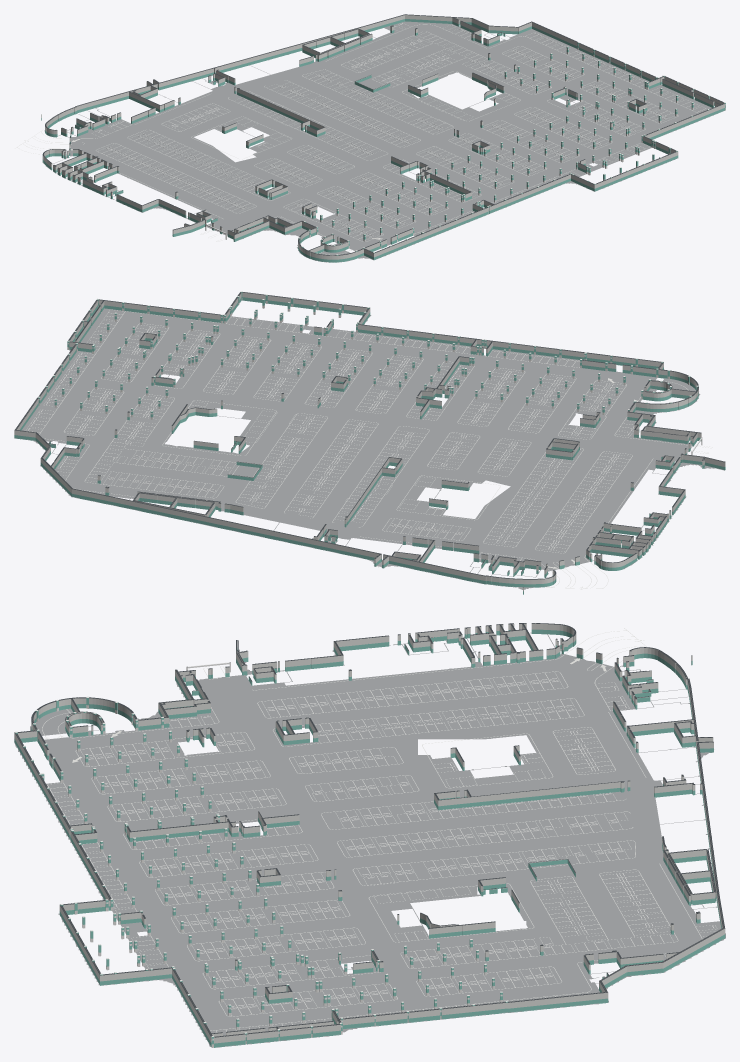
3 views of the same model, one above another, from view 1: azimuth 30°, elevation 25°; view 2: azimuth 150°, elevation 25°; view 3: azimuth 270°, elevation 25° (orthographic). The views are drawn at different scales.
Parts seen in each view (by area): view 1: floor, props; view 2: floor, props; view 3: floor, props.
Part boxes in pixels (left/top/right/bottom): floor: left=15, top=21, right=725, bottom=262; props: left=41, top=14, right=725, bottom=262; floor: left=14, top=308, right=725, bottom=589; props: left=14, top=291, right=725, bottom=594; floor: left=14, top=628, right=725, bottom=1047; props: left=14, top=623, right=725, bottom=1047.
Bounding box in the file's own units: 246 × 3 × 177.
